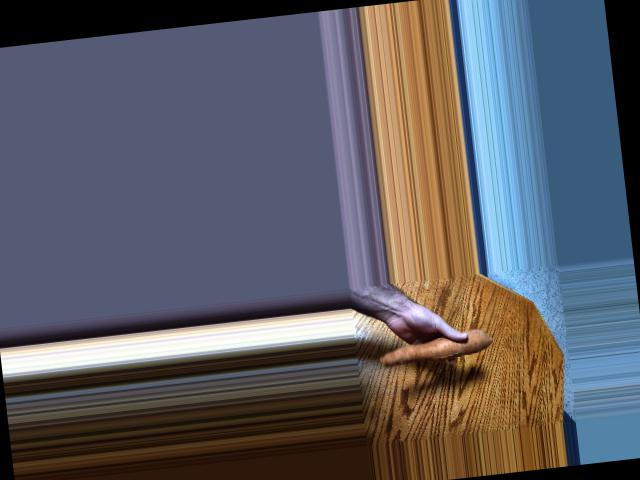sweet_potato: (373, 331, 491, 370)
